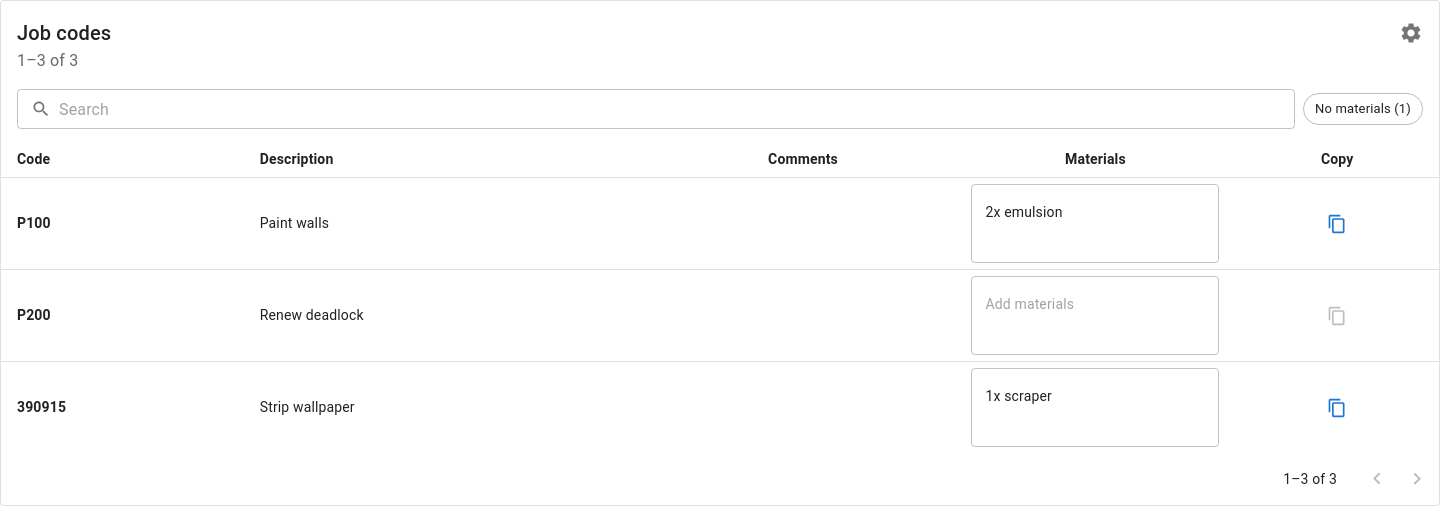
Test case: searching and the empty-materials queue › says when nothing matches
Type "zzzz" into the field named "Search job codes". click: (677, 109)
box: [59, 89, 1295, 129]
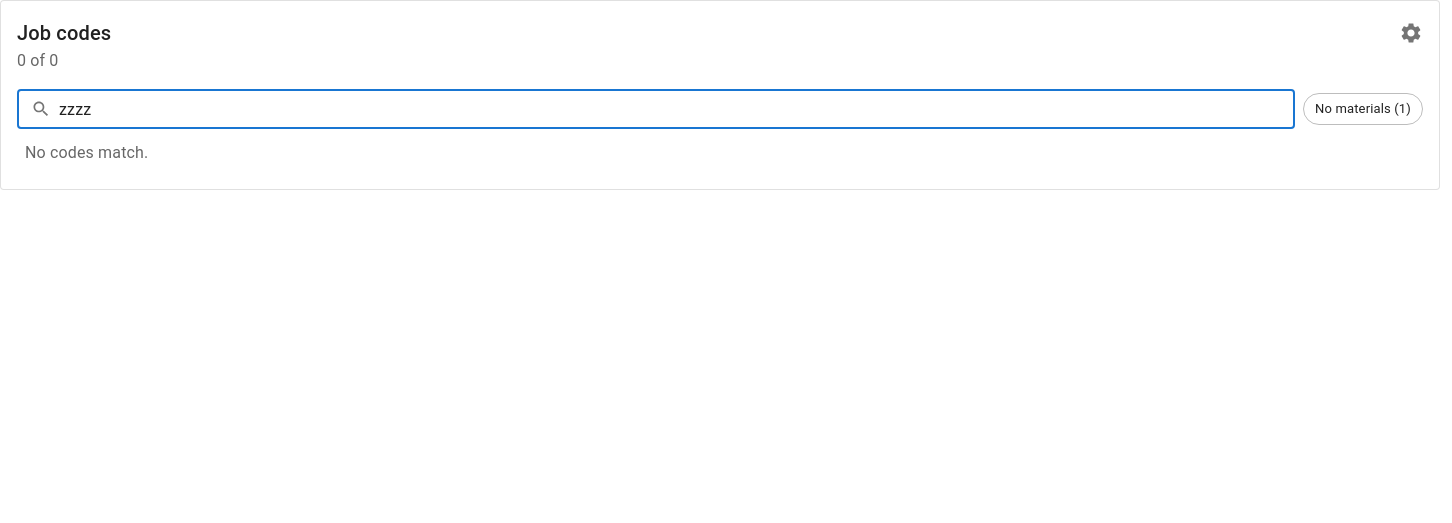
Expected: the text "No codes match." is shown, [25, 143, 148, 162]
Expected: the text "P100" is gone
